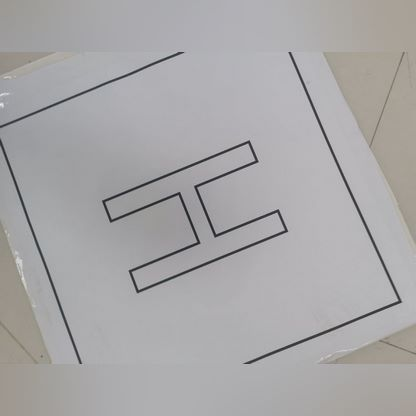H: (81, 114, 322, 299)
